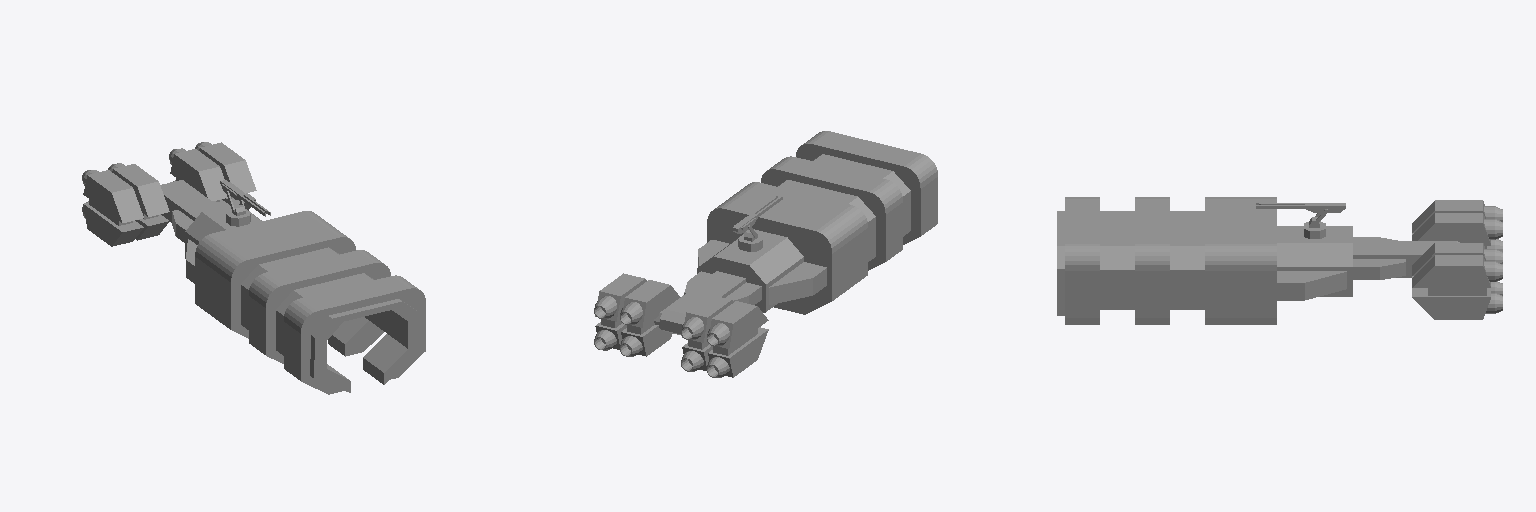
The model's file is Carrier.obj.
3 renders of one model, left to right at view 1: azimuth 30°, elevation 25°; view 2: azimuth 150°, elevation 25°; view 3: azimuth 270°, elevation 25°, orthographic.
Visible parts, largest first — view 1: Cube; view 2: Cube; view 3: Cube.
Boxes of the visible parts, x1,y1,x2,y2 form: Cube: [82, 142, 425, 394]; Cube: [594, 131, 937, 377]; Cube: [1057, 197, 1502, 324].
Size of the model in its own units: 8.86 by 6.51 by 25.51.